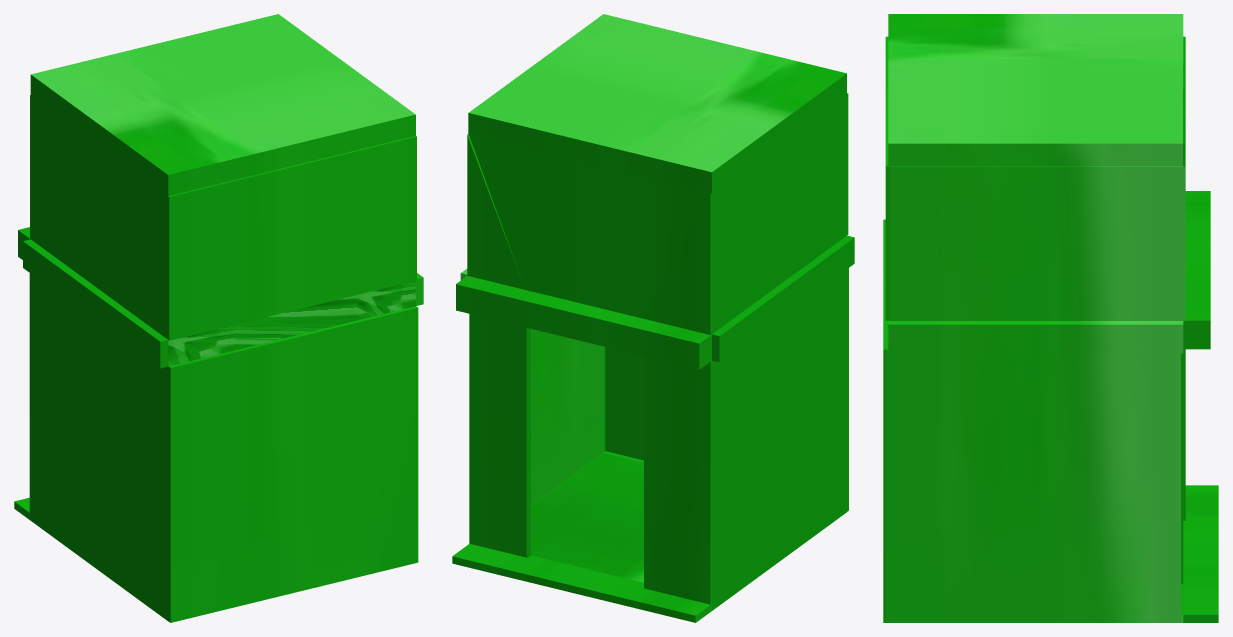
Rendered from MiiniHouse.FBX.
3 views of the same model, side by side, from view 1: azimuth 30°, elevation 25°; view 2: azimuth 150°, elevation 25°; view 3: azimuth 270°, elevation 25° (orthographic). The views are drawn at different scales.
Parts seen in each view (by area): view 1: MiniHouse; view 2: MiniHouse; view 3: MiniHouse.
Boxes of the visible parts, <box> form: MiniHouse: <box>14,14,423,622</box>; MiniHouse: <box>452,14,854,622</box>; MiniHouse: <box>883,14,1218,622</box>.
Size of the model in its own units: 276 by 447 by 283.
1 material, 1 textured.
